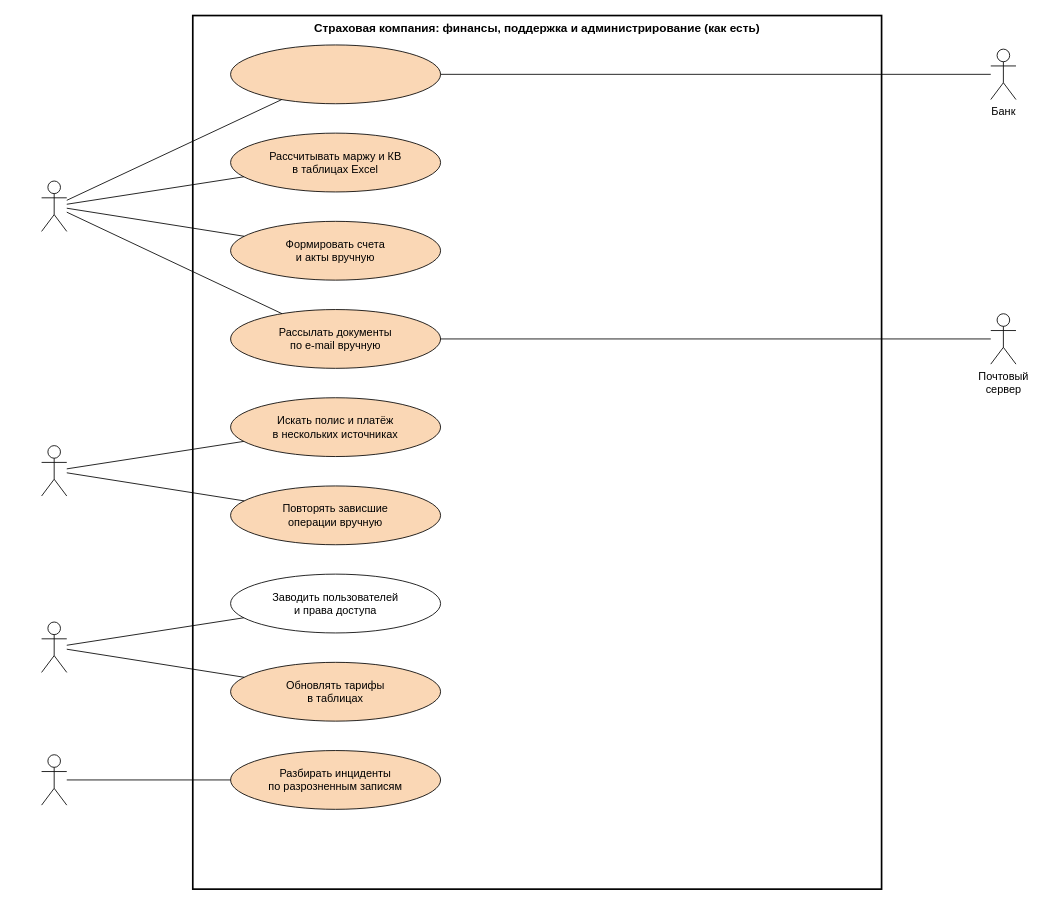
Some shapes in this 1043 by 904 pixel diagram are drawn without their labels. The centre of each missing label's shape, as x and y in pixels:
Администратор: [54,646]
Бухгалтер: [54,205]
Оператор поддержки: [54,470]
Сверять оплаты по банковским выпискам: [335,74]
Сотрудник ИБ: [54,779]
